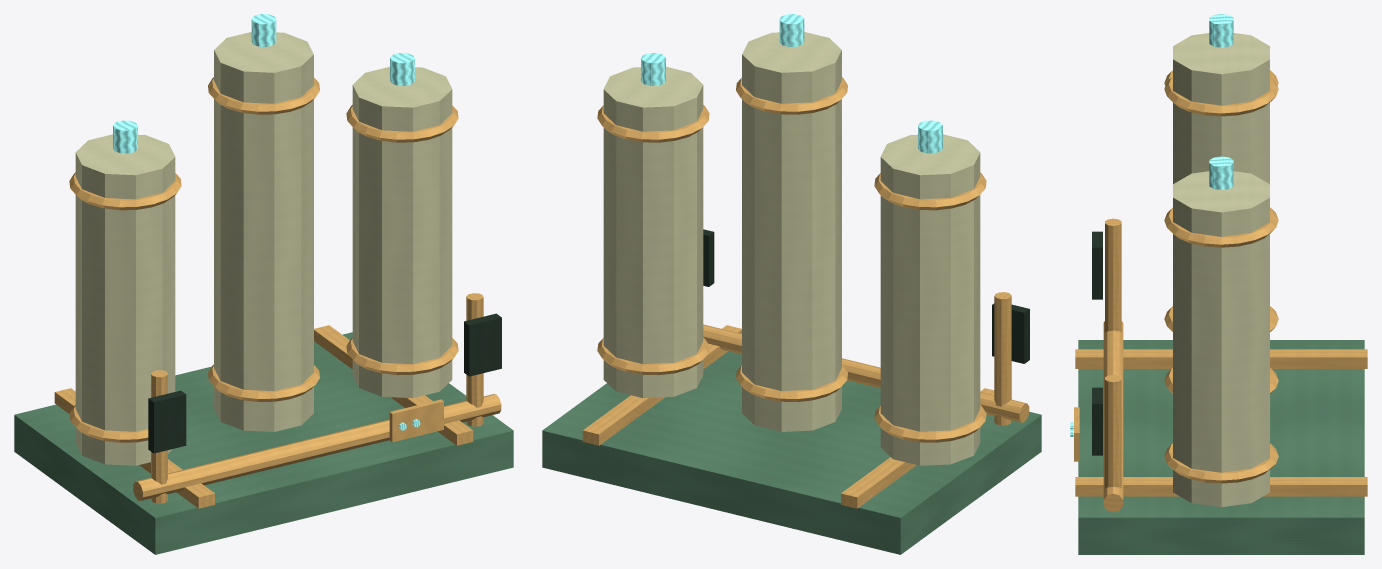
File: atlas100-s001-a01.glb
3 views of the same model, side by side, from view 1: azimuth 30°, elevation 25°; view 2: azimuth 150°, elevation 25°; view 3: azimuth 270°, elevation 25° (orthographic).
Visible parts, largest first — view 1: atlas100-s001-a01:part-000, atlas100-s001-a01:part-007, atlas100-s001-a01:part-011, atlas100-s001-a01:part-003, atlas100-s001-a01:part-019, atlas100-s001-a01:part-016, atlas100-s001-a01:part-018, atlas100-s001-a01:part-002, atlas100-s001-a01:part-020, atlas100-s001-a01:part-013, atlas100-s001-a01:part-009, atlas100-s001-a01:part-012 (+9 smaller); view 2: atlas100-s001-a01:part-000, atlas100-s001-a01:part-007, atlas100-s001-a01:part-003, atlas100-s001-a01:part-011, atlas100-s001-a01:part-019, atlas100-s001-a01:part-015, atlas100-s001-a01:part-002, atlas100-s001-a01:part-001, atlas100-s001-a01:part-013, atlas100-s001-a01:part-004, atlas100-s001-a01:part-009, atlas100-s001-a01:part-012 (+7 smaller); view 3: atlas100-s001-a01:part-000, atlas100-s001-a01:part-011, atlas100-s001-a01:part-007, atlas100-s001-a01:part-002, atlas100-s001-a01:part-001, atlas100-s001-a01:part-019, atlas100-s001-a01:part-015, atlas100-s001-a01:part-017, atlas100-s001-a01:part-013, atlas100-s001-a01:part-012, atlas100-s001-a01:part-009, atlas100-s001-a01:part-010 (+3 smaller).
Part boxes in pixels (x1,y1,x2,y2): atlas100-s001-a01:part-000: (14,332,513,554); atlas100-s001-a01:part-007: (214,32,313,431); atlas100-s001-a01:part-011: (352,66,452,398); atlas100-s001-a01:part-003: (75,134,175,465); atlas100-s001-a01:part-019: (133,394,501,500); atlas100-s001-a01:part-016: (148,390,186,453); atlas100-s001-a01:part-018: (464,313,501,376); atlas100-s001-a01:part-002: (314,325,473,445); atlas100-s001-a01:part-020: (389,399,443,442); atlas100-s001-a01:part-013: (346,105,458,142); atlas100-s001-a01:part-009: (208,77,319,114); atlas100-s001-a01:part-012: (346,337,458,375); atlas100-s001-a01:part-000: (542,351,1041,554); atlas100-s001-a01:part-007: (742,32,841,431); atlas100-s001-a01:part-003: (880,134,980,465); atlas100-s001-a01:part-011: (603,66,703,398); atlas100-s001-a01:part-019: (703,324,1029,422); atlas100-s001-a01:part-015: (994,292,1011,425); atlas100-s001-a01:part-002: (582,325,741,445); atlas100-s001-a01:part-001: (841,388,994,508); atlas100-s001-a01:part-013: (597,105,709,142); atlas100-s001-a01:part-004: (874,405,986,442); atlas100-s001-a01:part-009: (736,77,847,114); atlas100-s001-a01:part-012: (597,337,709,375); atlas100-s001-a01:part-000: (1078,340,1364,554); atlas100-s001-a01:part-011: (1173,171,1269,507); atlas100-s001-a01:part-007: (1173,33,1269,183); atlas100-s001-a01:part-002: (1075,477,1367,496); atlas100-s001-a01:part-001: (1075,349,1367,368); atlas100-s001-a01:part-019: (1103,321,1123,512); atlas100-s001-a01:part-015: (1105,218,1121,332); atlas100-s001-a01:part-017: (1105,375,1121,488); atlas100-s001-a01:part-013: (1164,207,1278,247); atlas100-s001-a01:part-012: (1164,443,1278,483); atlas100-s001-a01:part-009: (1164,76,1278,116); atlas100-s001-a01:part-010: (1209,14,1233,47).
Bounding box in the file's own units: 2.76 × 3.1 × 1.87.
Materials: 5 (5 with a texture image).
